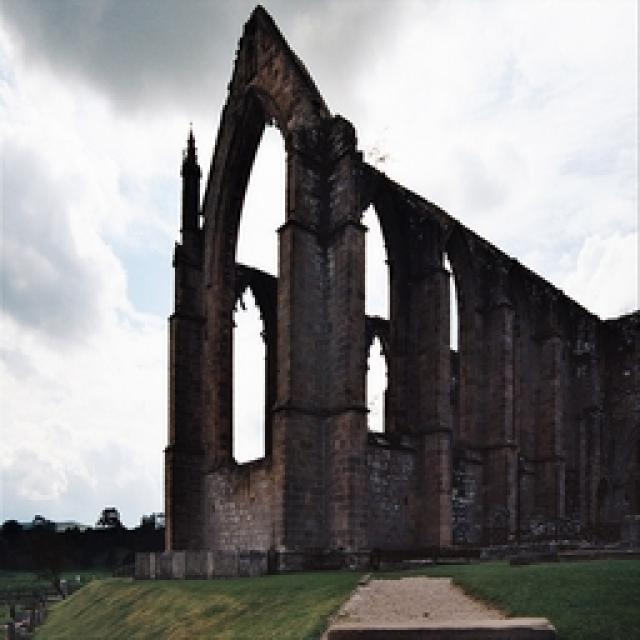Abbey: (149, 1, 624, 586)
